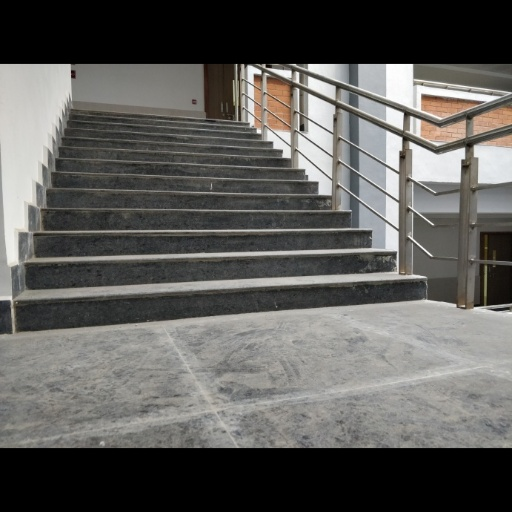Stairs: (15, 110, 427, 331)
